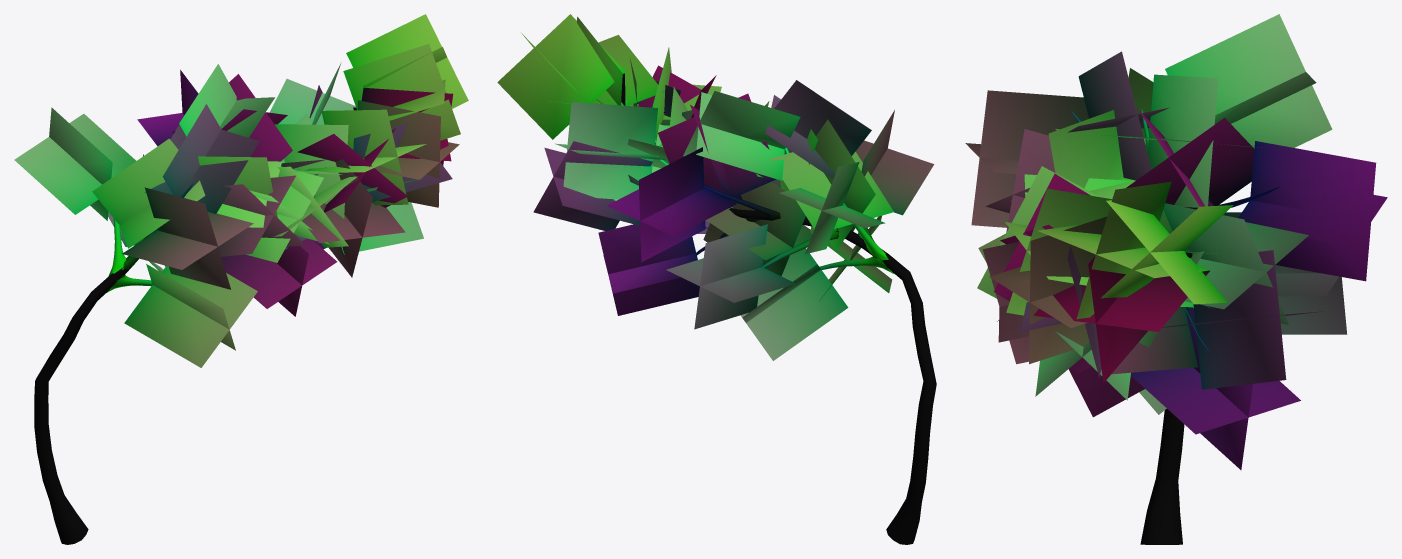
The model's file is M_P5_Tree_7.fbx.
3 renders of one model, left to right at view 1: azimuth 30°, elevation 25°; view 2: azimuth 150°, elevation 25°; view 3: azimuth 270°, elevation 25°, orthographic. The views are drawn at different scales.
Parts seen in each view (by area): view 1: Tree_7; view 2: Tree_7; view 3: Tree_7.
Boxes of the visible parts, bbox=[...] form: Tree_7: bbox=[14, 14, 468, 544]; Tree_7: bbox=[497, 14, 936, 544]; Tree_7: bbox=[965, 14, 1387, 544].
Bounding box in the file's own units: 432 × 415 × 267.
